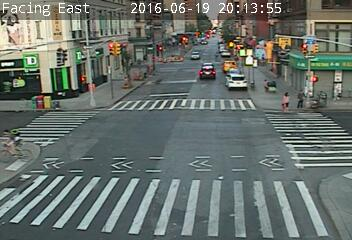neg: (1, 124, 31, 165), (168, 58, 192, 91), (233, 71, 253, 98), (212, 64, 231, 90), (141, 66, 147, 75)
pos: (275, 89, 292, 112), (292, 86, 309, 109)
